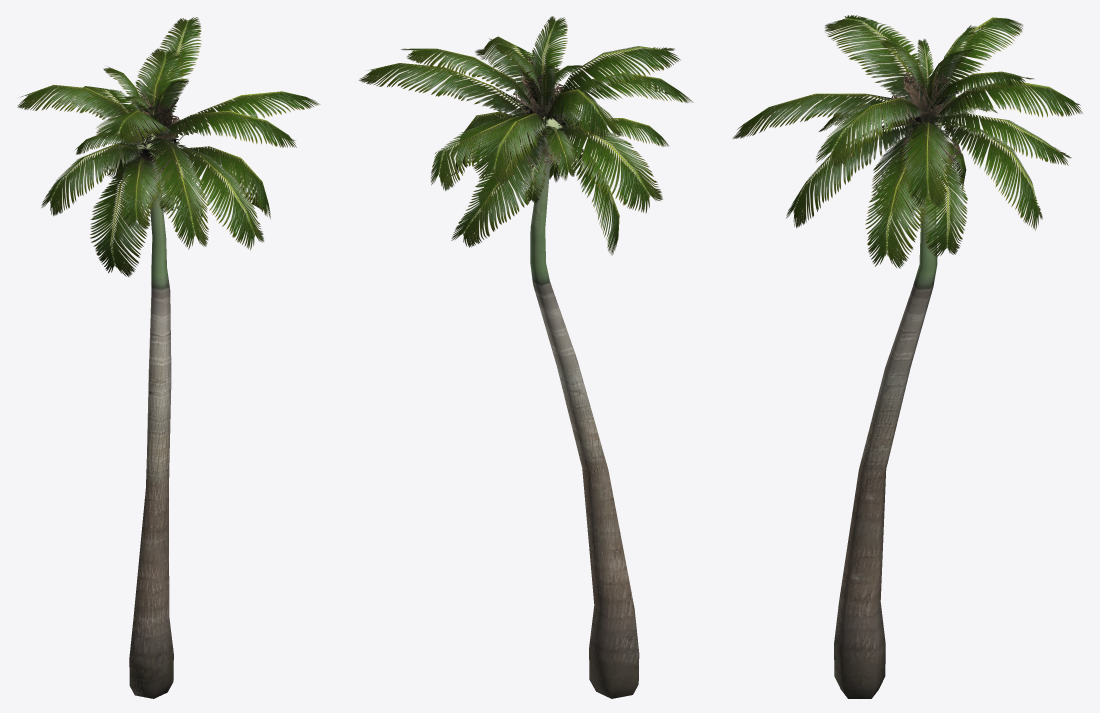
The model's file is Palm_Tropical_05.glb.
The picture shows the model from 3 angles, left to right: view 1: azimuth 30°, elevation 25°; view 2: azimuth 150°, elevation 25°; view 3: azimuth 270°, elevation 25°; orthographic projection. The views are drawn at different scales.
Visible parts, largest first — view 1: Palm1_VAR5; view 2: Palm1_VAR5; view 3: Palm1_VAR5.
Boxes of the visible parts, left/top/right/bottom form: Palm1_VAR5: left=17, top=17, right=320, bottom=698; Palm1_VAR5: left=359, top=16, right=693, bottom=698; Palm1_VAR5: left=733, top=15, right=1082, bottom=698.
Size of the model in its own units: 3.18 by 6.62 by 3.16.
1 material, 1 textured.
